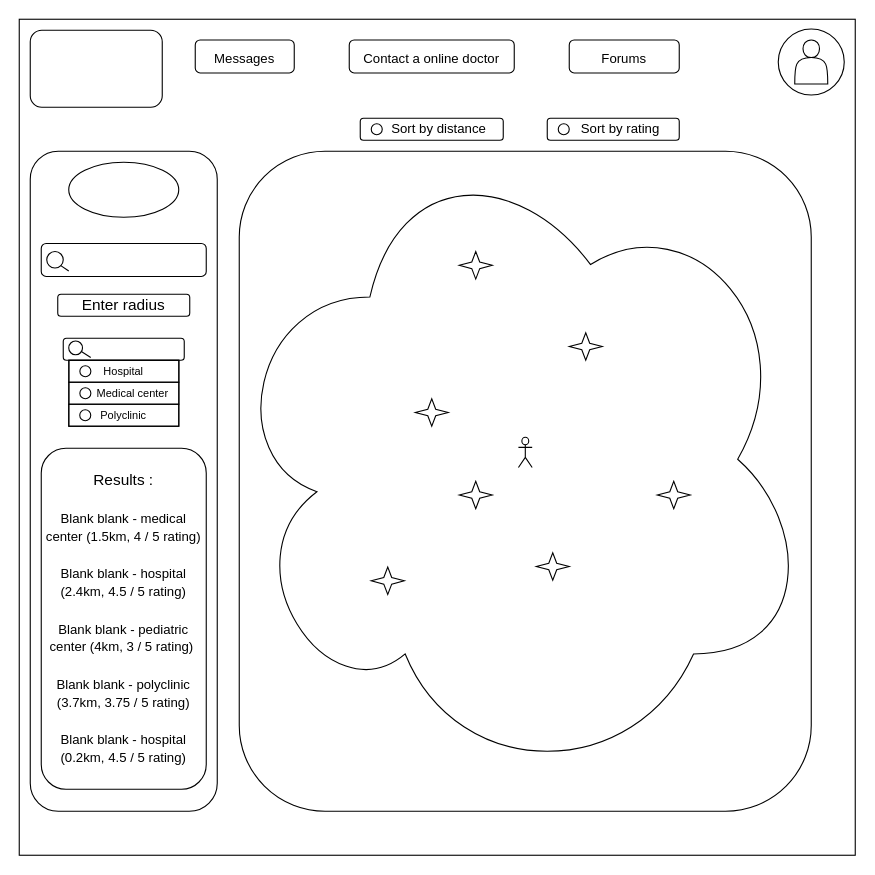
The diagram is 875 pixels wide and 875 high, and some of its shapes have lost their labels. Here are the shapes that lost their labels. From the top down, the box of each, then its label:
(29, 29, 162, 107): Your Health Logo
(777, 28, 844, 95): Your profile
(68, 161, 179, 217): Use current location
(40, 242, 206, 276): Enter location
(62, 337, 184, 360): Facility type
